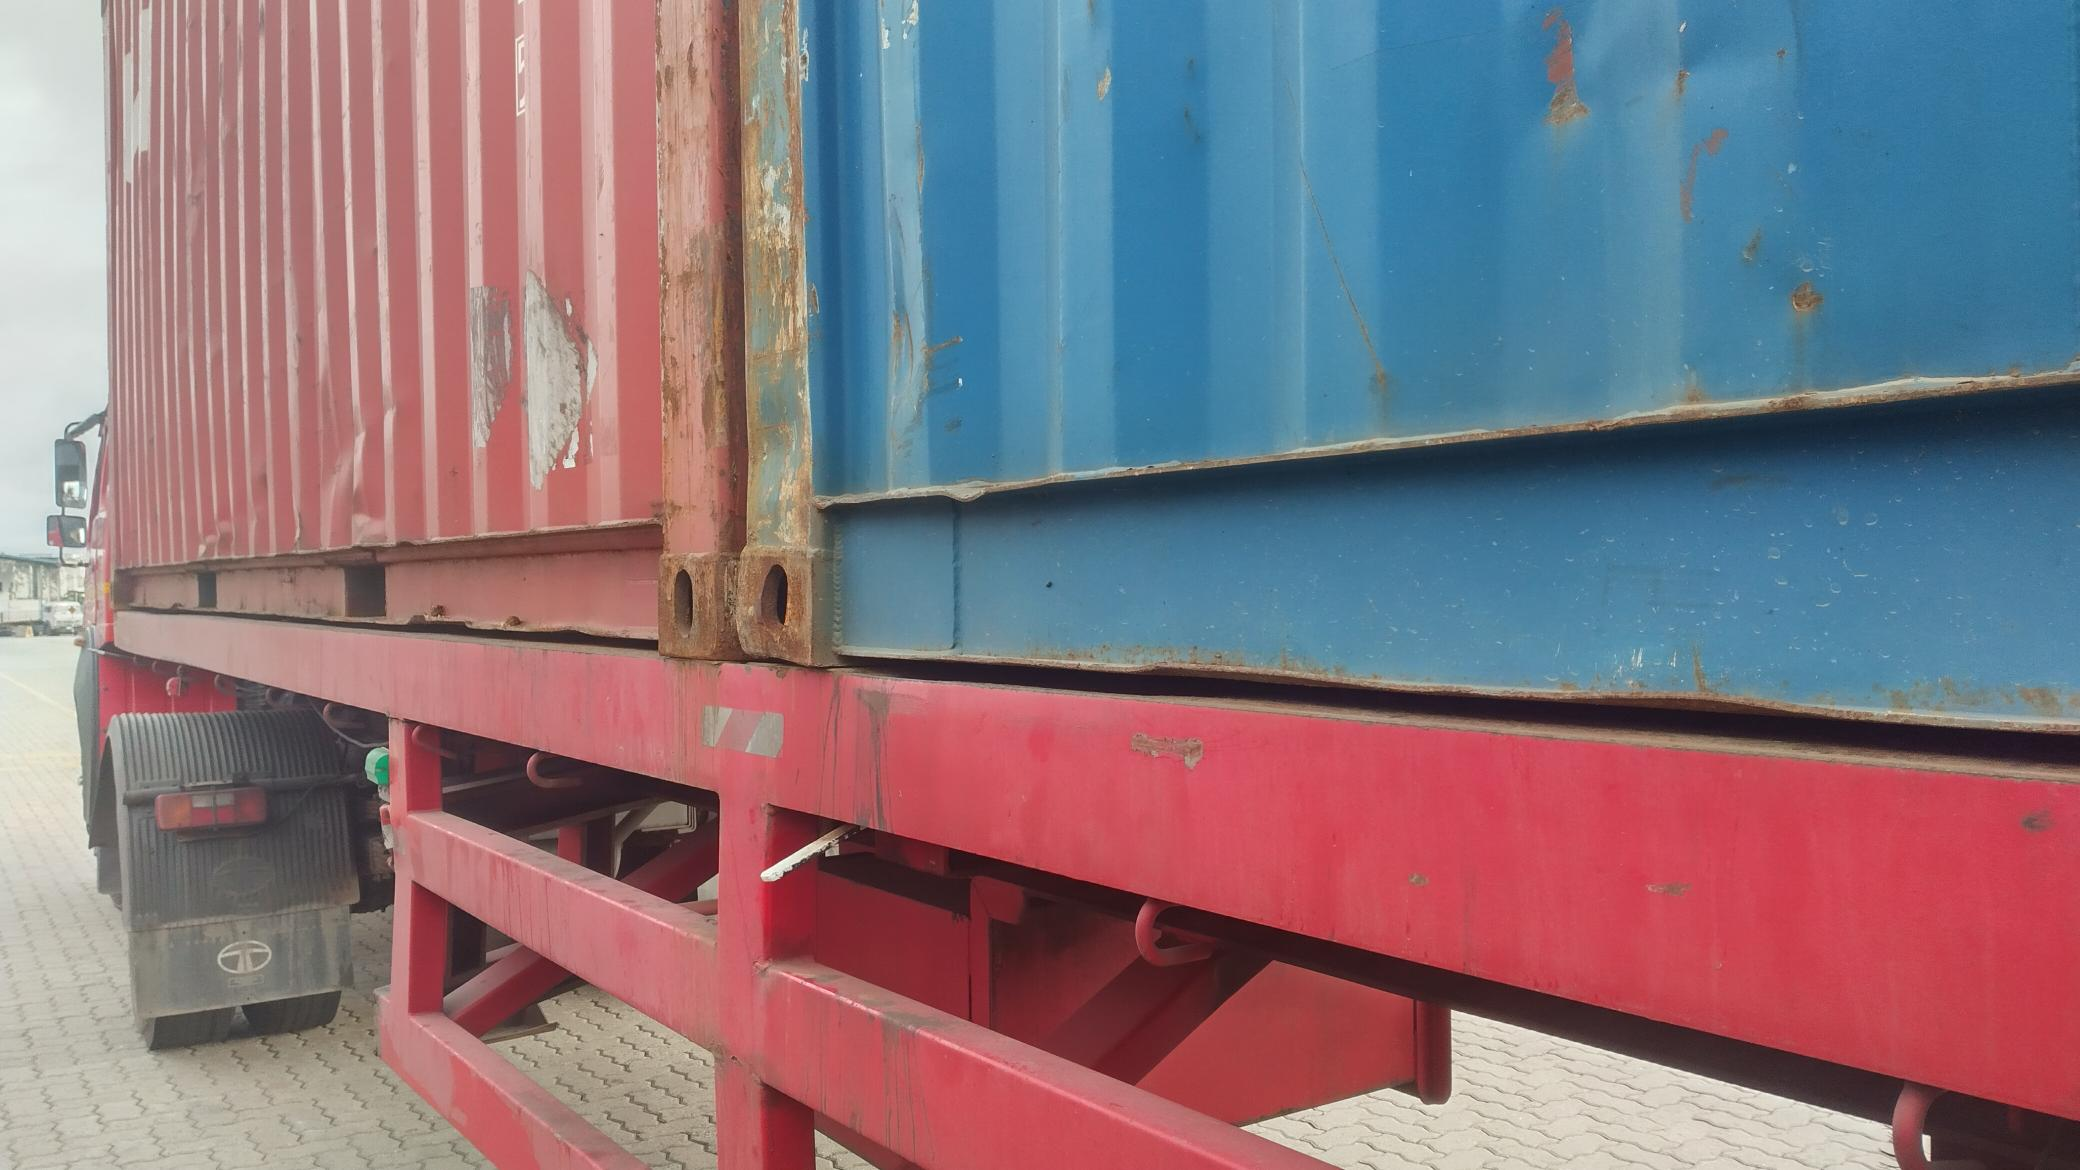moderate: (171, 380, 417, 559)
